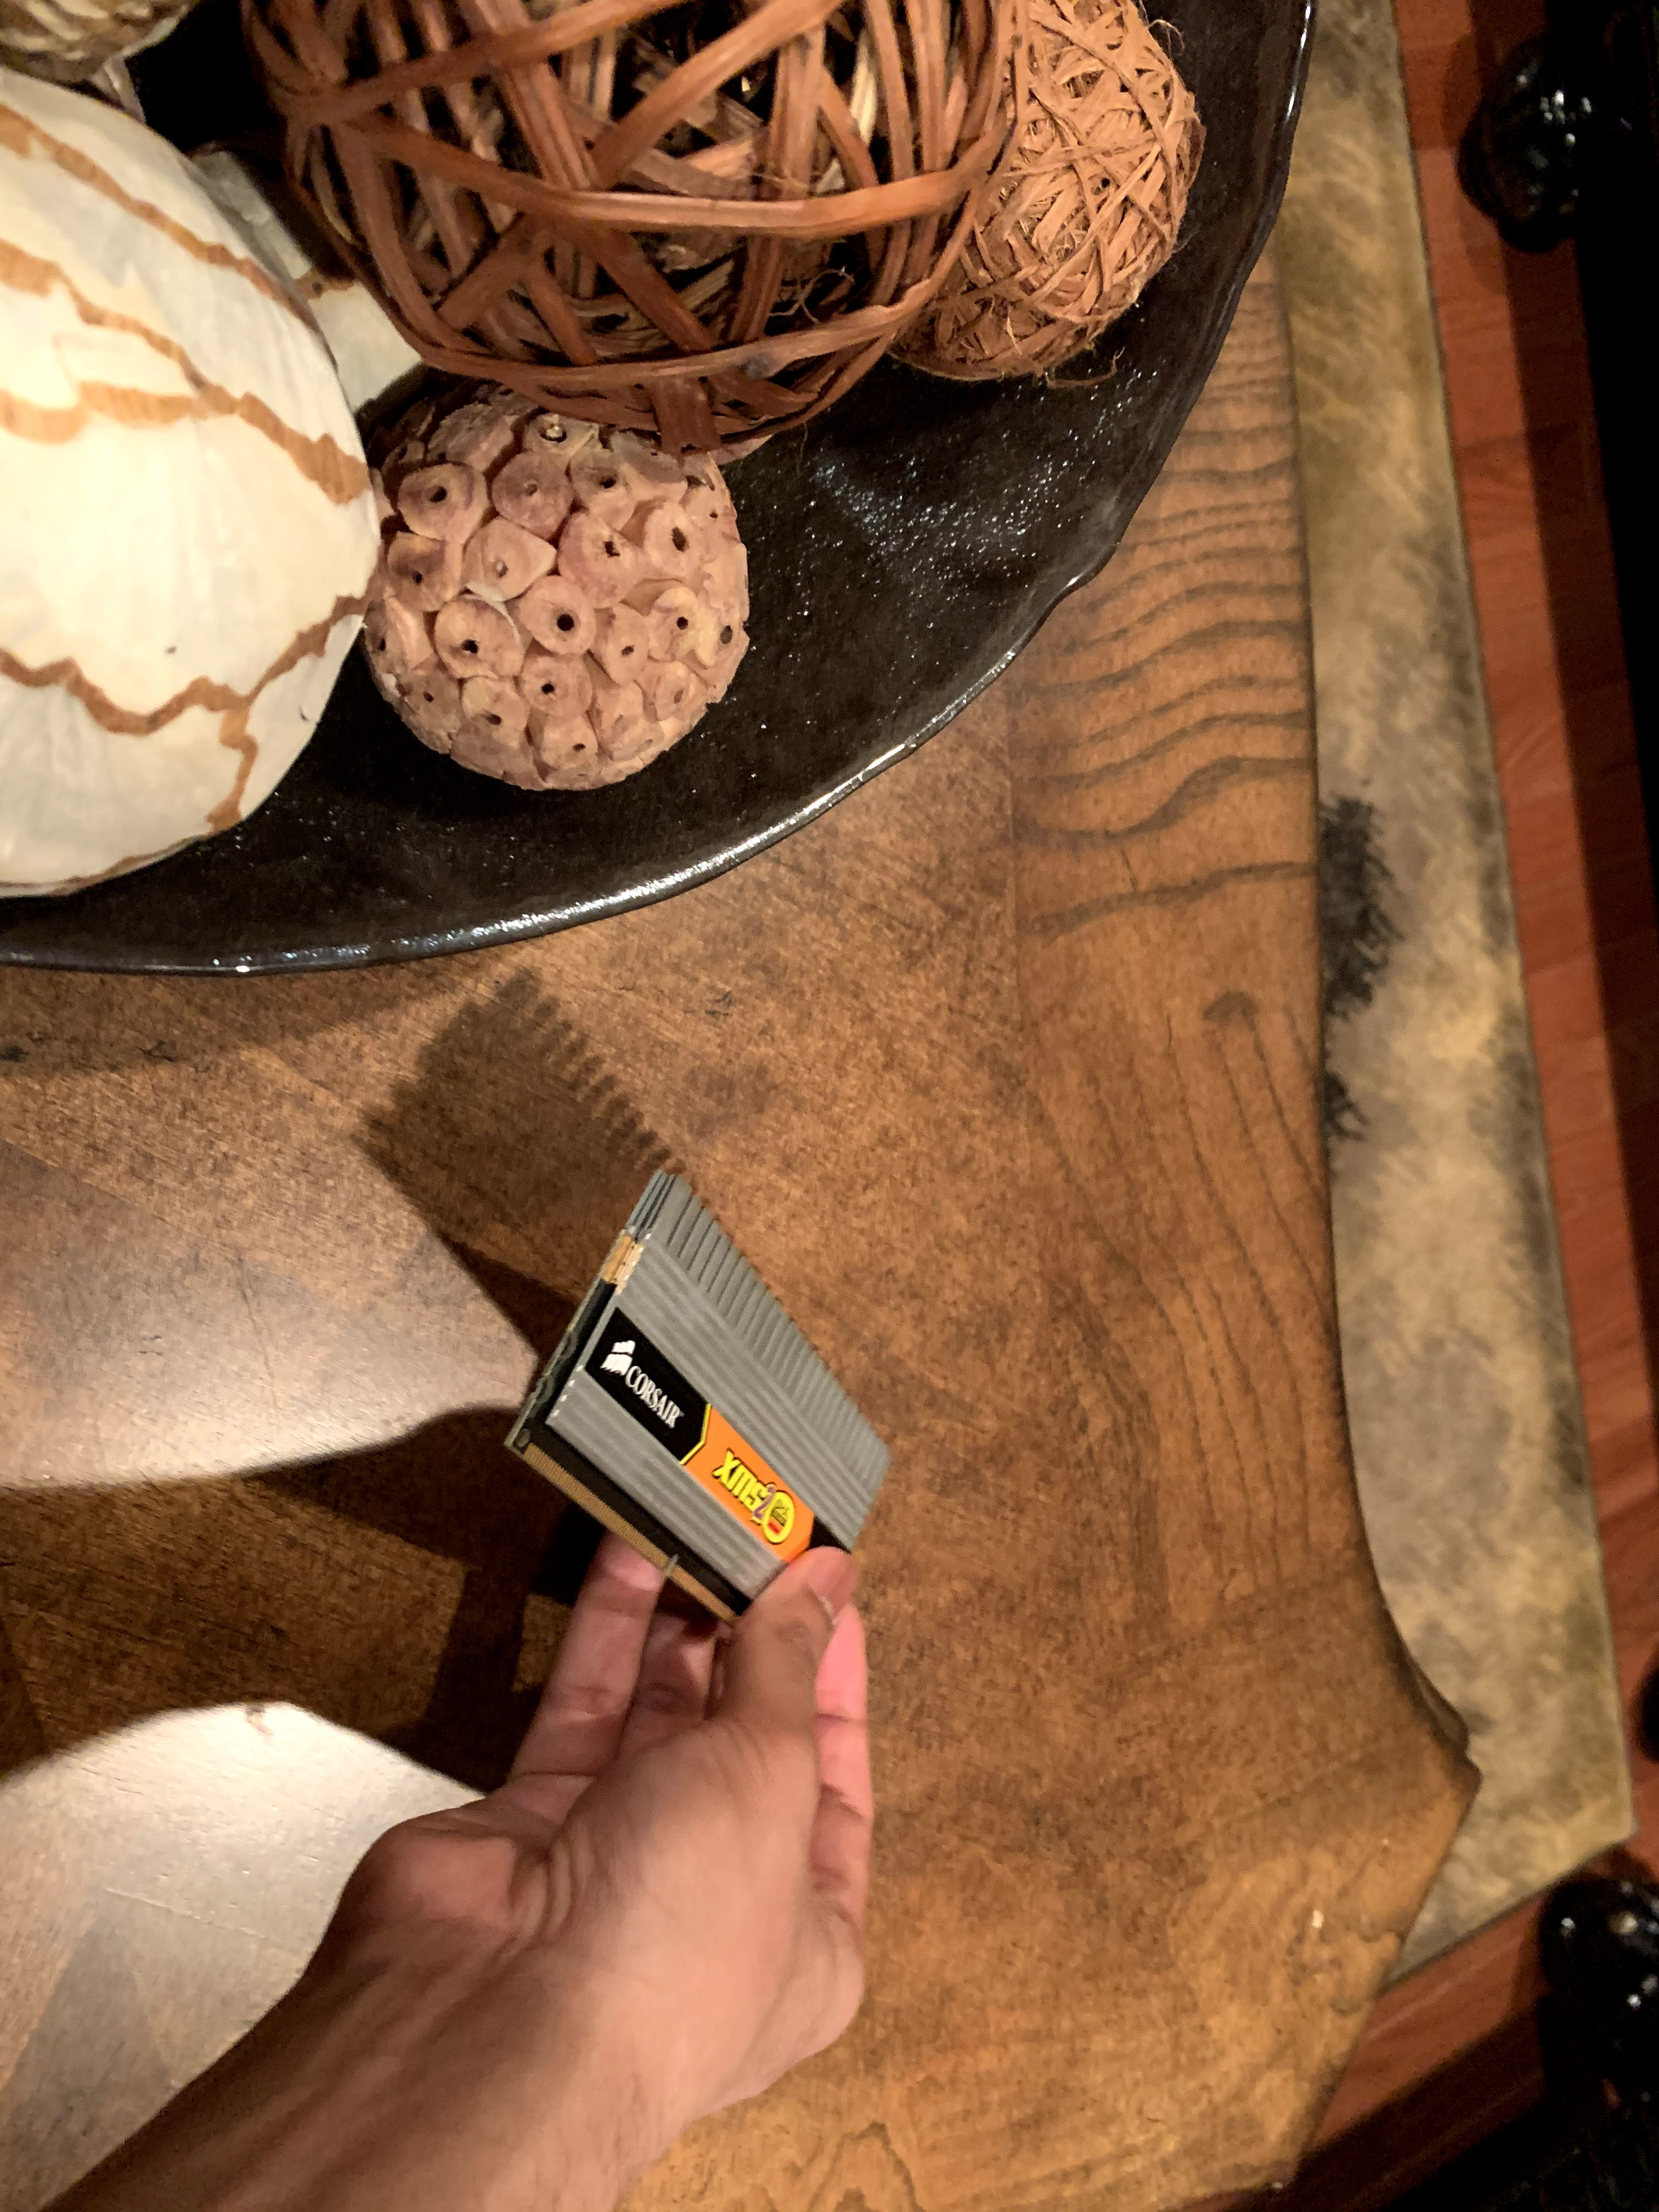Space-debris-medium: (490, 1134, 936, 1620)
